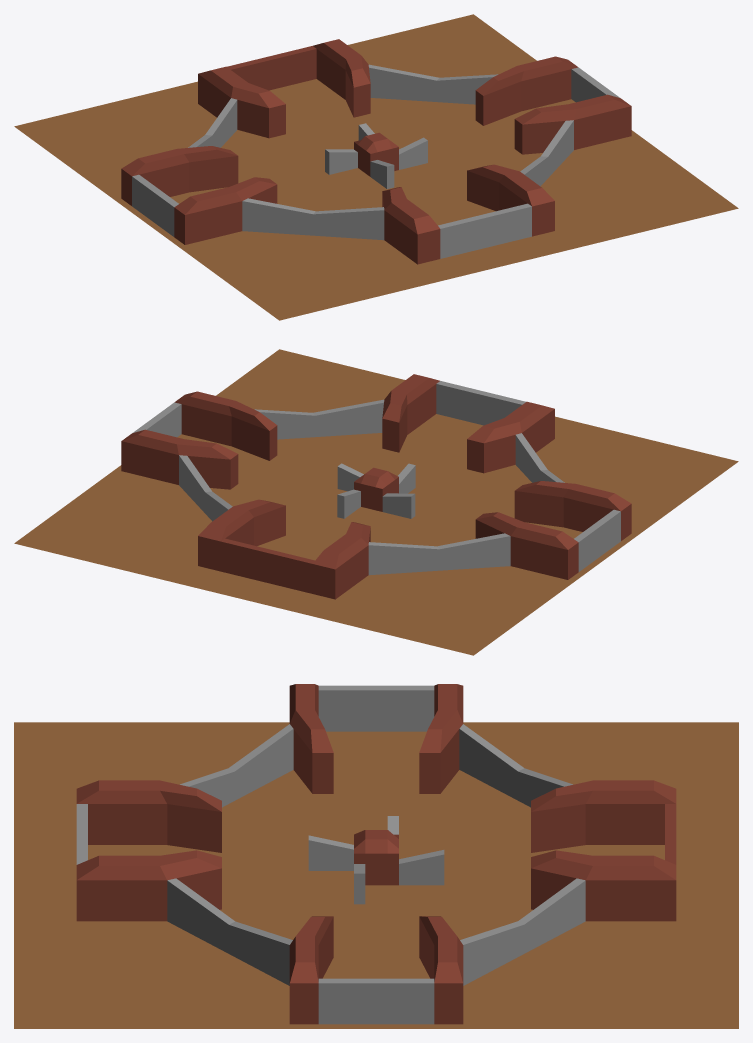
File: arena.fbx
3 views of the same model, one above another, from view 1: azimuth 30°, elevation 25°; view 2: azimuth 150°, elevation 25°; view 3: azimuth 270°, elevation 25° (orthographic). The views are drawn at different scales.
Visible parts, largest first — view 1: Plane, Cylinder, Cube; view 2: Plane, Cylinder, Cube; view 3: Plane, Cylinder, Cube.
Boxes of the visible parts, x1,y1,x2,y2 form: Plane: (14,14,738,320); Cylinder: (121,39,631,264); Cube: (325,123,427,188); Plane: (14,349,738,655); Cylinder: (121,374,631,599); Cube: (337,463,415,518); Plane: (14,722,738,1028); Cylinder: (76,684,676,1024); Cube: (308,816,444,904).
Size of the model in its own units: 800 by 63.86 by 800.
